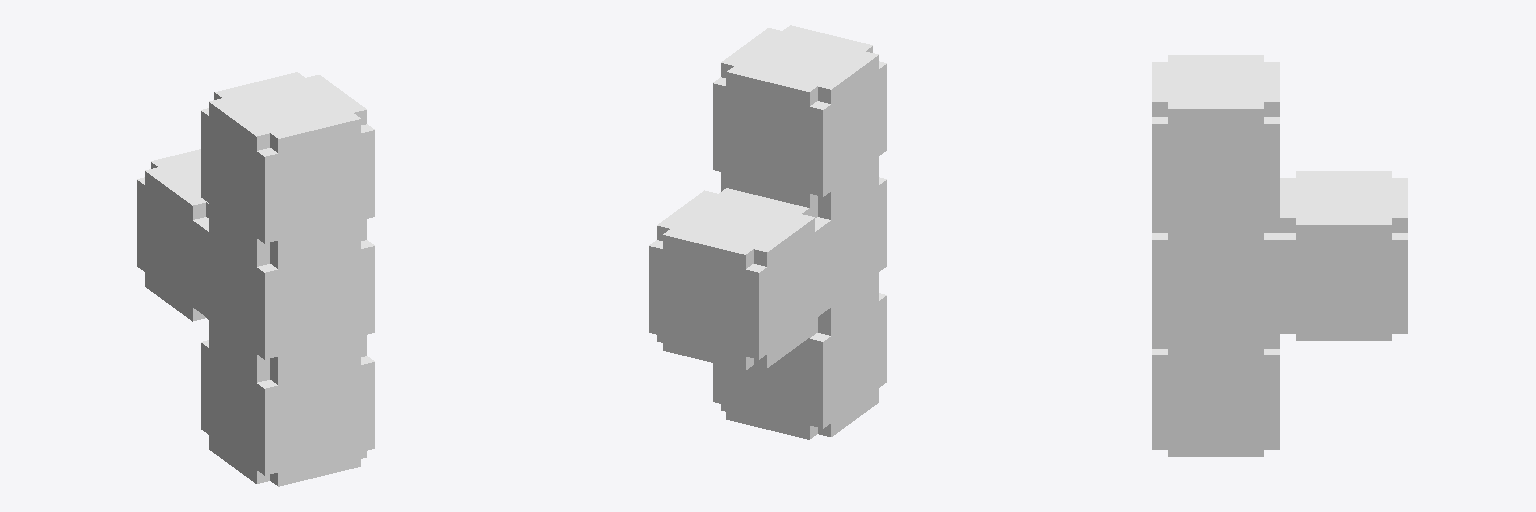
The model's file is tetris_T.obj.
3 views of the same model, side by side, from view 1: azimuth 30°, elevation 25°; view 2: azimuth 150°, elevation 25°; view 3: azimuth 270°, elevation 25° (orthographic).
Visible parts, largest first — view 1: object 1; view 2: object 1; view 3: object 1.
Boxes of the visible parts, <box> form: object 1: <box>137,72,374,486</box>; object 1: <box>649,25,886,439</box>; object 1: <box>1152,55,1407,456</box>.
Bounding box in the file's own units: 0.8 × 2.4 × 1.6.